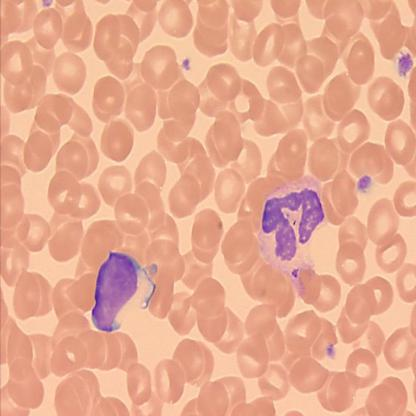Atypical lymphocyte: (88, 245, 160, 338)
